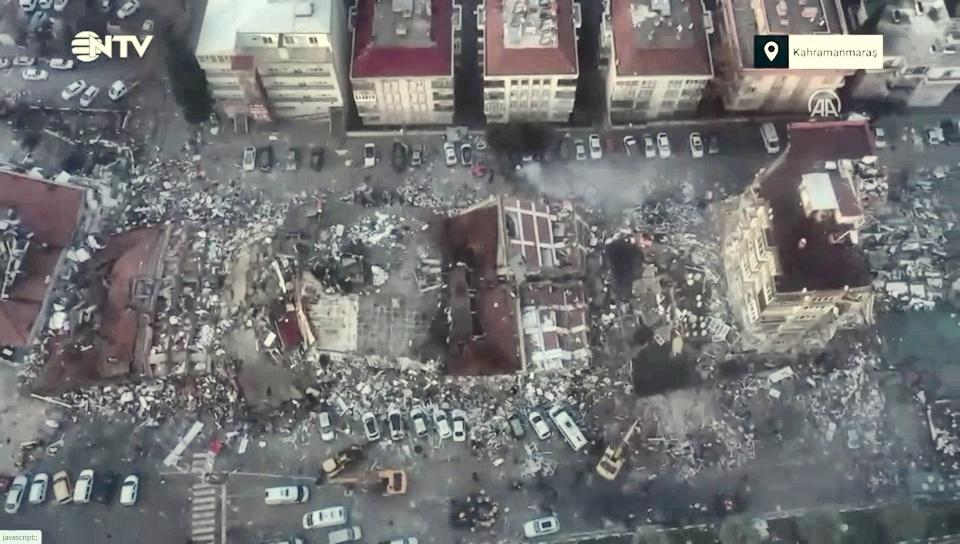kapali: (769, 369, 959, 515)
